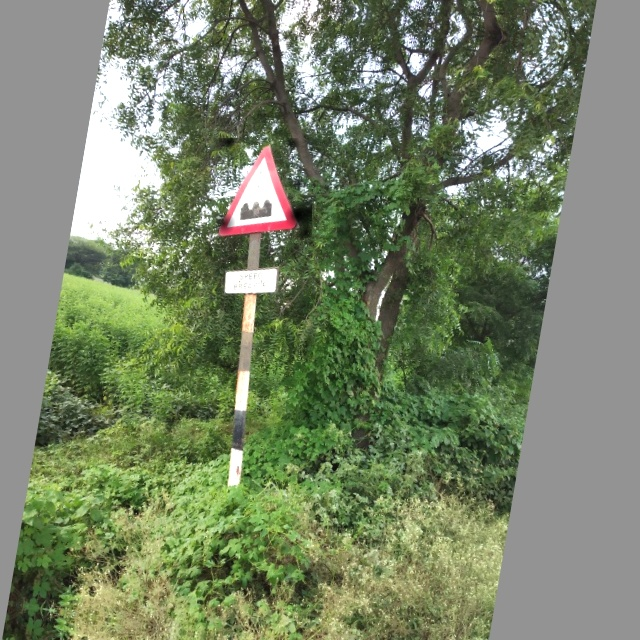Hump_or_Rough_Road: (216, 138, 312, 246)
